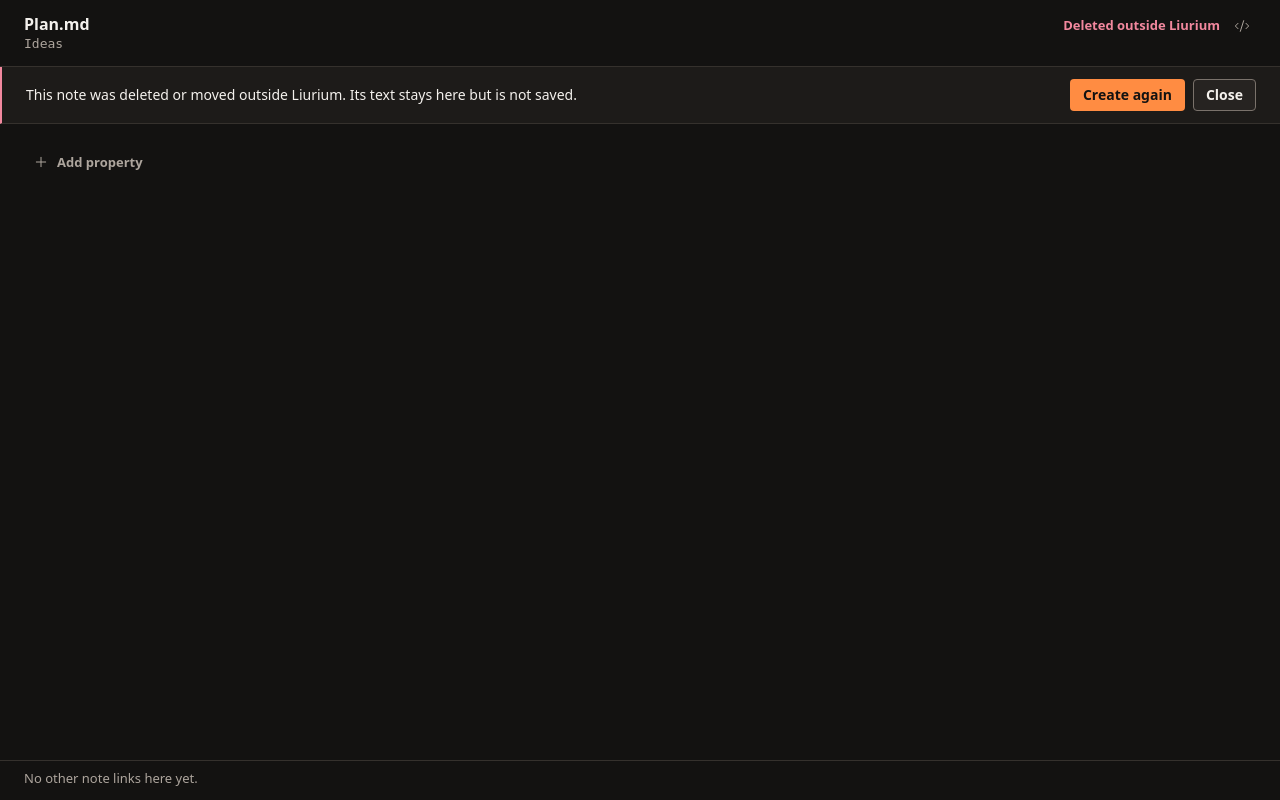
Scenario: a note deleted outside offers to create it again
This screenshot has width=1280, height=800.
Expected: the 2nd message shows "deleted or moved outside Liurium", x1=26 y1=85 x2=577 y2=104
Click the button "Create again".
click(1127, 95)  # box x1=1070 y1=79 x2=1185 y2=111
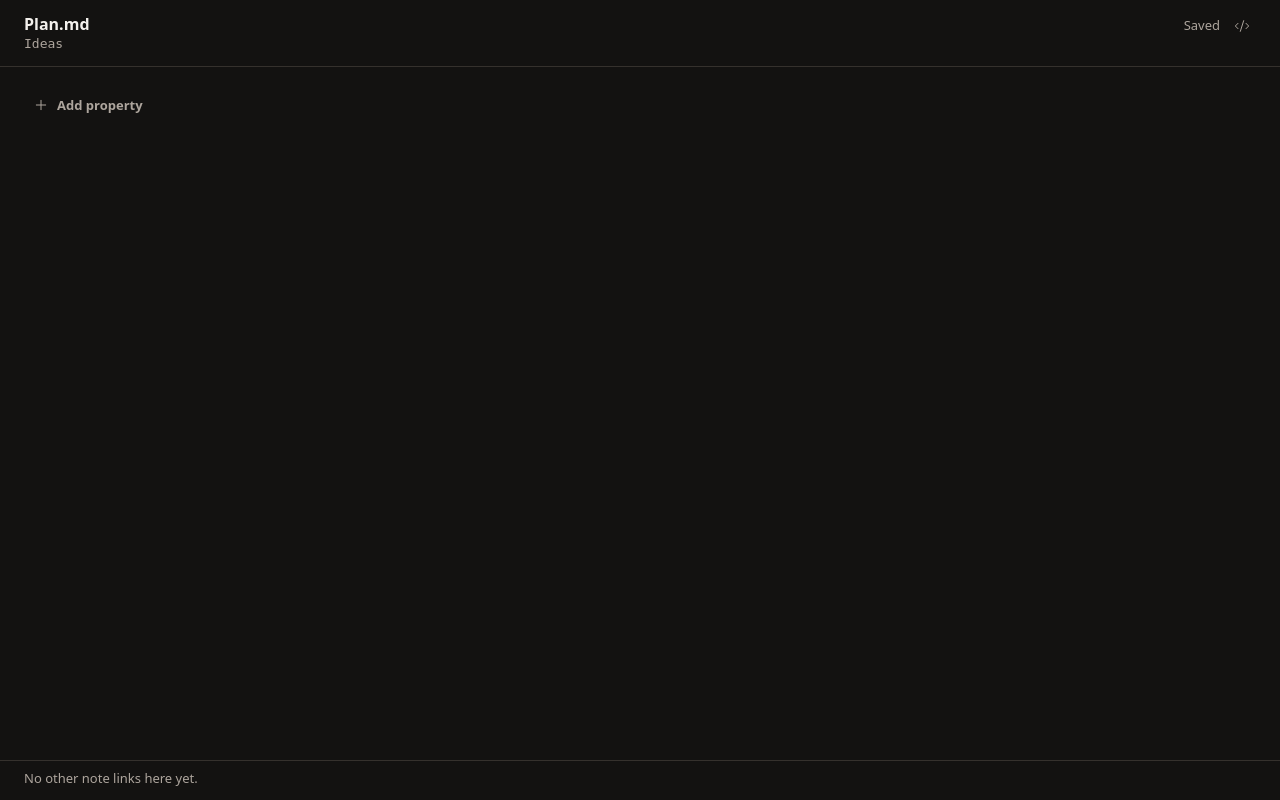
Now the message reads "Saved", box x1=1184 y1=16 x2=1220 y2=34
